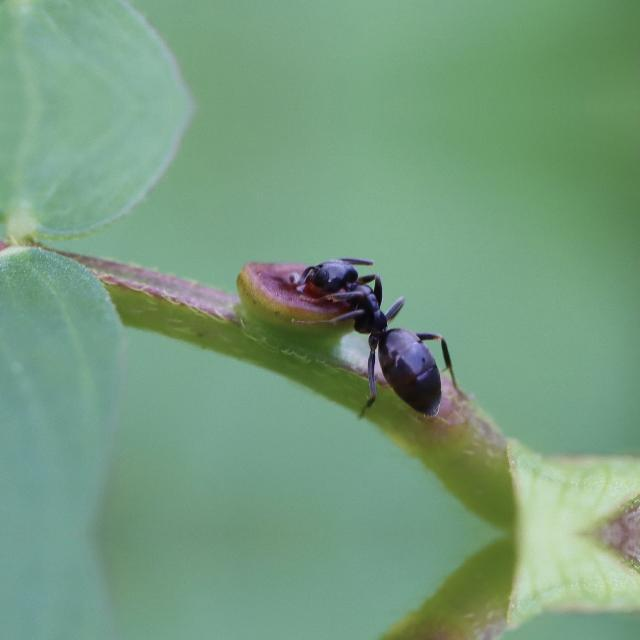Tapinoma: (258, 236, 494, 439)
